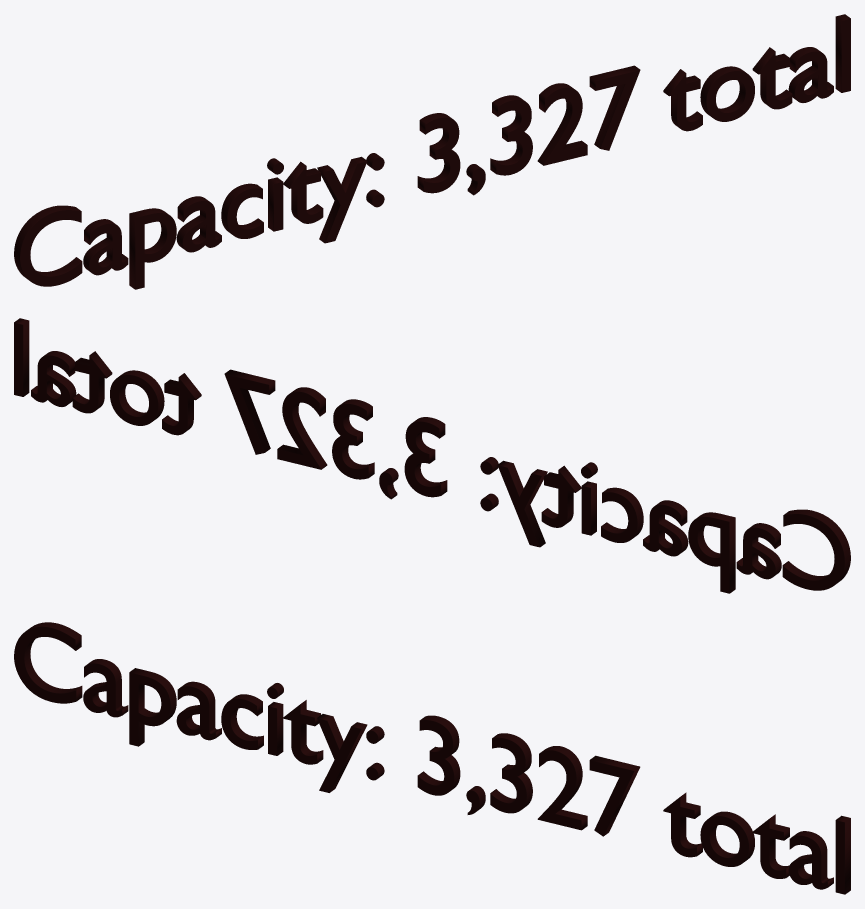
The model's file is text_technical06.glb.
The picture shows the model from 3 angles, top to bottom: view 1: azimuth 30°, elevation 25°; view 2: azimuth 150°, elevation 25°; view 3: azimuth 330°, elevation 25°; orthographic projection.
Visible parts, largest first — view 1: technical06; view 2: technical06; view 3: technical06.
Boxes of the visible parts, box(x1,y1,x2,y2) form: technical06: box(14, 14, 850, 289); technical06: box(14, 318, 850, 593); technical06: box(14, 622, 850, 894).
Bounding box in the file's own units: 142 × 15.9 × 1.79.
